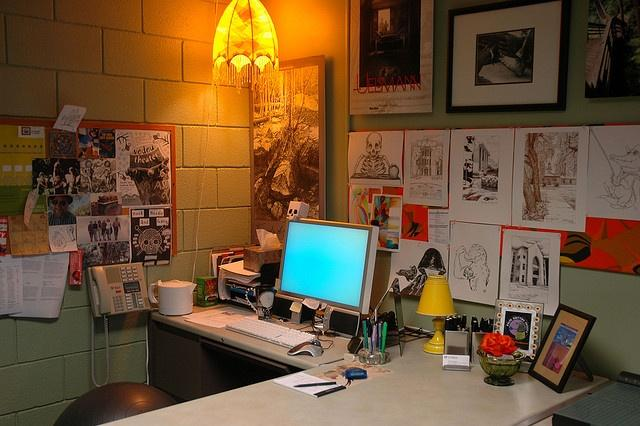AIO PC-Monitor-TV: (273, 215, 378, 316)
